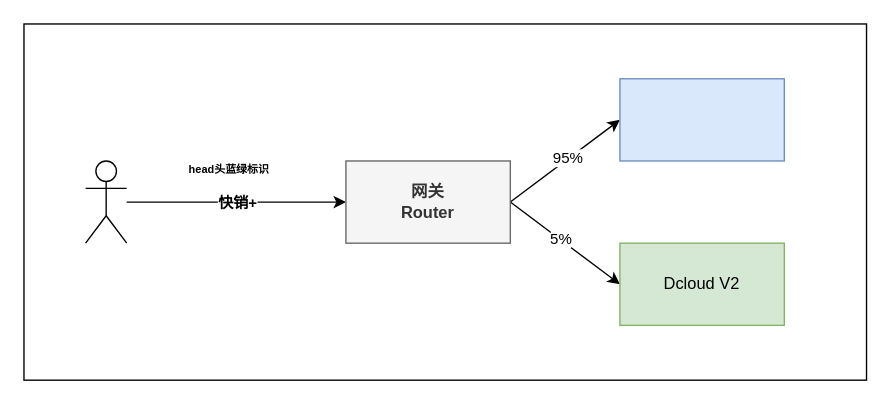
Image size: 891x404. Some labels were removed from this diagram. Here are the shapes that lost their labels. From the top down, the box of each, then its label:
(619, 77, 784, 161): Dcloud V1
(84, 160, 127, 243): 用户
